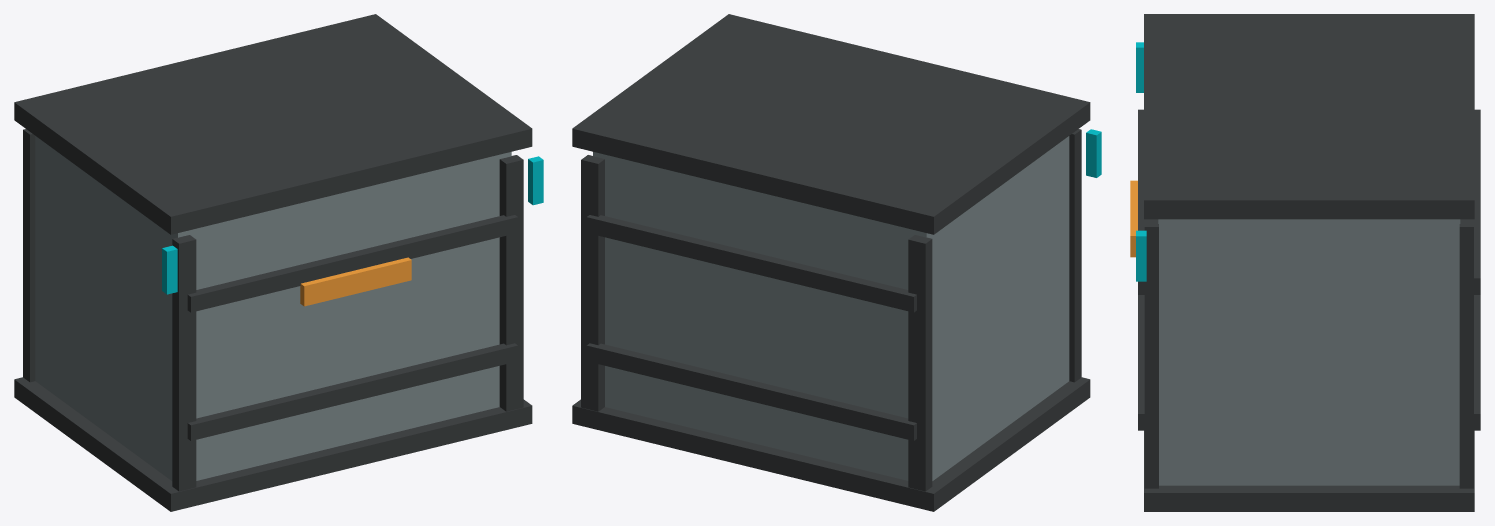
The model's file is map_a2_cover_crate_01.glb.
The picture shows the model from 3 angles, left to right: view 1: azimuth 30°, elevation 25°; view 2: azimuth 150°, elevation 25°; view 3: azimuth 270°, elevation 25°; orthographic projection. The views are drawn at different scales.
Parts seen in each view (by area): view 1: map_a2_cover_crate_01_lod0_core, map_a2_cover_crate_01_lod0_top_cap, map_a2_cover_crate_01_lod0_bottom_cap, map_a2_cover_crate_01_lod0_front_band_0.34, map_a2_cover_crate_01_lod0_front_band_0.91, map_a2_cover_crate_01_lod0_front_upright_-0.76, map_a2_cover_crate_01_lod0_front_upright_+0.76, map_a2_cover_crate_01_lod0_back_upright_-0.76, map_a2_cover_crate_01_lod0_front_orange_cover_mark, map_a2_cover_crate_01_lod0_right_teal_corner, map_a2_cover_crate_01_lod0_left_teal_corner; view 2: map_a2_cover_crate_01_lod0_core, map_a2_cover_crate_01_lod0_top_cap, map_a2_cover_crate_01_lod0_bottom_cap, map_a2_cover_crate_01_lod0_back_band_0.91, map_a2_cover_crate_01_lod0_back_band_0.34, map_a2_cover_crate_01_lod0_back_upright_-0.76, map_a2_cover_crate_01_lod0_back_upright_+0.76, map_a2_cover_crate_01_lod0_front_upright_-0.76, map_a2_cover_crate_01_lod0_left_teal_corner; view 3: map_a2_cover_crate_01_lod0_core, map_a2_cover_crate_01_lod0_top_cap, map_a2_cover_crate_01_lod0_bottom_cap, map_a2_cover_crate_01_lod0_back_upright_+0.76, map_a2_cover_crate_01_lod0_front_upright_+0.76, map_a2_cover_crate_01_lod0_back_band_0.91, map_a2_cover_crate_01_lod0_back_band_0.34, map_a2_cover_crate_01_lod0_front_band_0.34, map_a2_cover_crate_01_lod0_front_band_0.91, map_a2_cover_crate_01_lod0_right_teal_corner, map_a2_cover_crate_01_lod0_front_orange_cover_mark, map_a2_cover_crate_01_lod0_left_teal_corner.
Part boxes in pixels (box(x1,y1,x2,y2)): map_a2_cover_crate_01_lod0_core: box(35, 136, 511, 480); map_a2_cover_crate_01_lod0_top_cap: box(14, 14, 532, 234); map_a2_cover_crate_01_lod0_bottom_cap: box(14, 377, 532, 511); map_a2_cover_crate_01_lod0_front_band_0.34: box(187, 343, 517, 440); map_a2_cover_crate_01_lod0_front_band_0.91: box(187, 215, 517, 312); map_a2_cover_crate_01_lod0_front_upright_-0.76: box(172, 235, 196, 491); map_a2_cover_crate_01_lod0_front_upright_+0.76: box(499, 155, 523, 411); map_a2_cover_crate_01_lod0_back_upright_-0.76: box(23, 129, 35, 382); map_a2_cover_crate_01_lod0_front_orange_cover_mark: box(300, 257, 411, 306); map_a2_cover_crate_01_lod0_right_teal_corner: box(528, 156, 543, 205); map_a2_cover_crate_01_lod0_left_teal_corner: box(162, 245, 177, 294); map_a2_cover_crate_01_lod0_core: box(593, 136, 1069, 480); map_a2_cover_crate_01_lod0_top_cap: box(572, 14, 1090, 234); map_a2_cover_crate_01_lod0_bottom_cap: box(572, 377, 1090, 511); map_a2_cover_crate_01_lod0_back_band_0.91: box(586, 215, 916, 312); map_a2_cover_crate_01_lod0_back_band_0.34: box(586, 343, 916, 440); map_a2_cover_crate_01_lod0_back_upright_-0.76: box(908, 235, 932, 491); map_a2_cover_crate_01_lod0_back_upright_+0.76: box(581, 155, 604, 411); map_a2_cover_crate_01_lod0_front_upright_-0.76: box(1069, 129, 1081, 382); map_a2_cover_crate_01_lod0_left_teal_corner: box(1086, 129, 1101, 177); map_a2_cover_crate_01_lod0_core: box(1158, 219, 1460, 485); map_a2_cover_crate_01_lod0_top_cap: box(1144, 14, 1474, 219); map_a2_cover_crate_01_lod0_bottom_cap: box(1144, 430, 1474, 511); map_a2_cover_crate_01_lod0_back_upright_+0.76: box(1459, 219, 1473, 488); map_a2_cover_crate_01_lod0_front_upright_+0.76: box(1144, 219, 1158, 488); map_a2_cover_crate_01_lod0_back_band_0.91: box(1474, 109, 1480, 294); map_a2_cover_crate_01_lod0_back_band_0.34: box(1474, 295, 1480, 430); map_a2_cover_crate_01_lod0_front_band_0.34: box(1138, 295, 1144, 430); map_a2_cover_crate_01_lod0_front_band_0.91: box(1138, 109, 1144, 294); map_a2_cover_crate_01_lod0_right_teal_corner: box(1136, 230, 1146, 281); map_a2_cover_crate_01_lod0_front_orange_cover_mark: box(1130, 180, 1137, 257); map_a2_cover_crate_01_lod0_left_teal_corner: box(1136, 42, 1143, 92).
Bounding box in the file's own units: 1.75 × 1.31 × 1.33.
